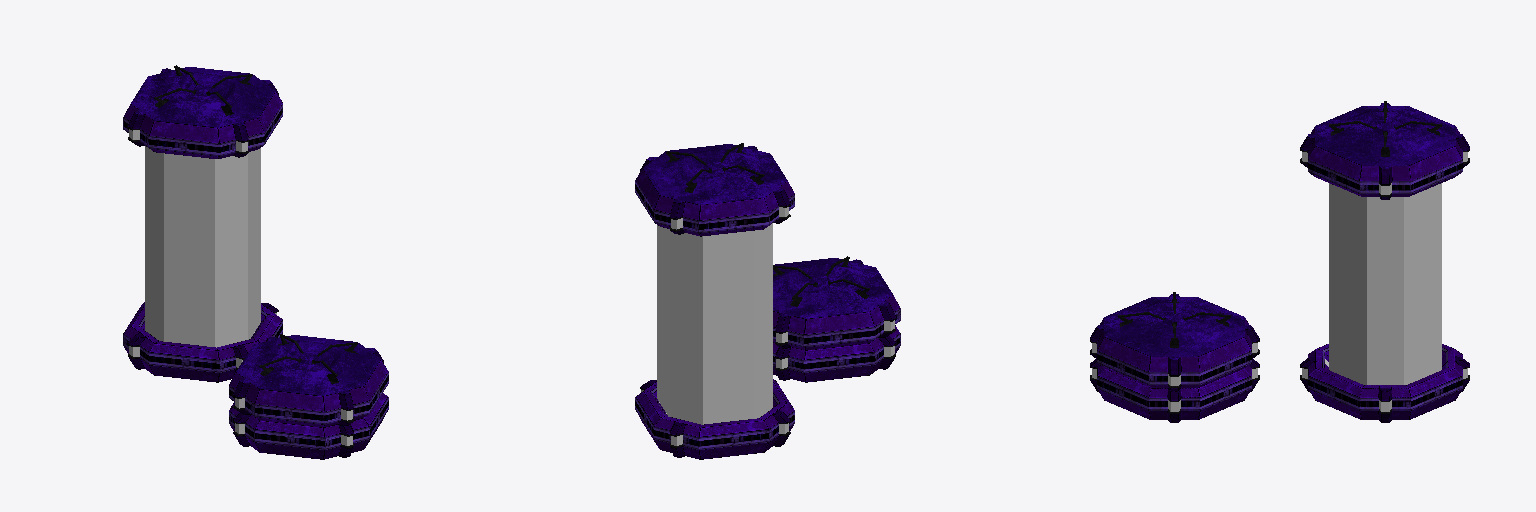
The picture shows the model from 3 angles: view 1: azimuth 30°, elevation 25°; view 2: azimuth 150°, elevation 25°; view 3: azimuth 270°, elevation 25°; orthographic projection.
Visible parts, largest first — view 1: Cube.005, Cube.004, Cube.002, Cube.001, Cube.003; view 2: Cube.005, Cube.002, Cube.004, Cube.001, Cube.003; view 3: Cube.005, Cube.004, Cube.002, Cube.001, Cube.003.
Part boxes in pixels (x1,y1,x2,y2): Cube.005: (145, 146, 260, 347); Cube.004: (229, 334, 388, 427); Cube.002: (123, 65, 282, 158); Cube.001: (123, 302, 282, 382); Cube.003: (229, 393, 388, 459); Cube.005: (657, 223, 772, 424); Cube.002: (635, 143, 794, 236); Cube.004: (773, 256, 900, 350); Cube.001: (635, 379, 794, 459); Cube.003: (773, 325, 900, 382); Cube.005: (1329, 183, 1441, 384); Cube.004: (1090, 292, 1259, 390); Cube.002: (1300, 101, 1469, 199); Cube.001: (1300, 344, 1469, 422); Cube.003: (1090, 359, 1259, 422).
Size of the model in its own units: 2.42 by 4.23 by 5.42.
Materials: 5 (3 with a texture image).